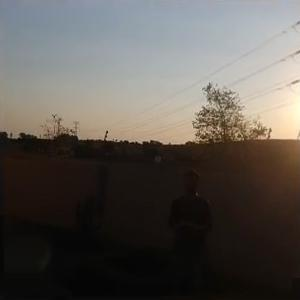follow: (161, 166, 216, 298)
